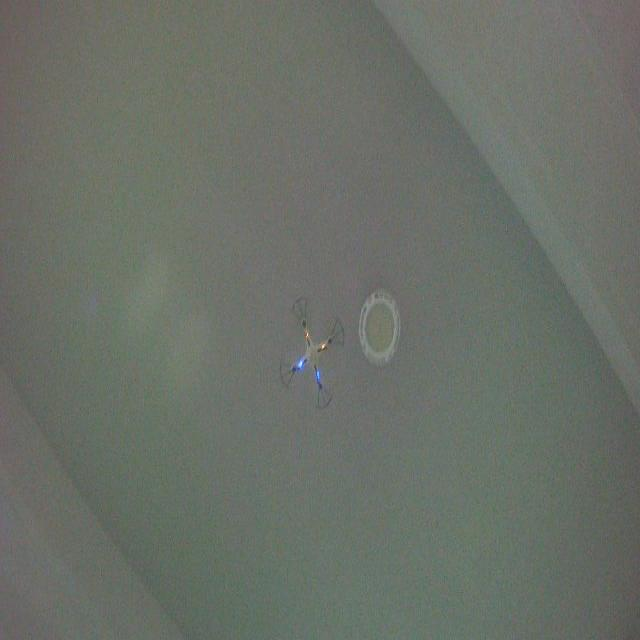drone: (277, 292, 347, 415)
